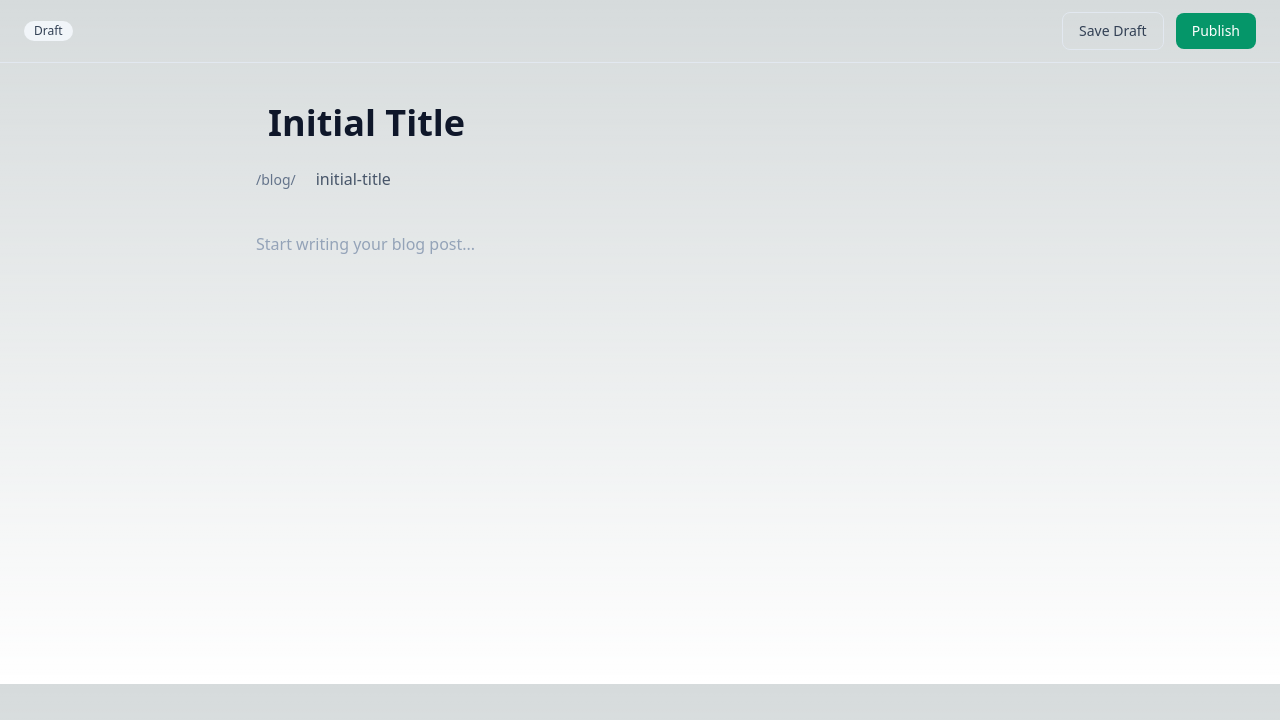
Test: BlogPostEditor › updates slug when title changes (if slug not edited)
Step 1. Replace the text in the 1st field with placeholder "Post title" with "New Title" → (640, 123), box [256,95,1024,151]
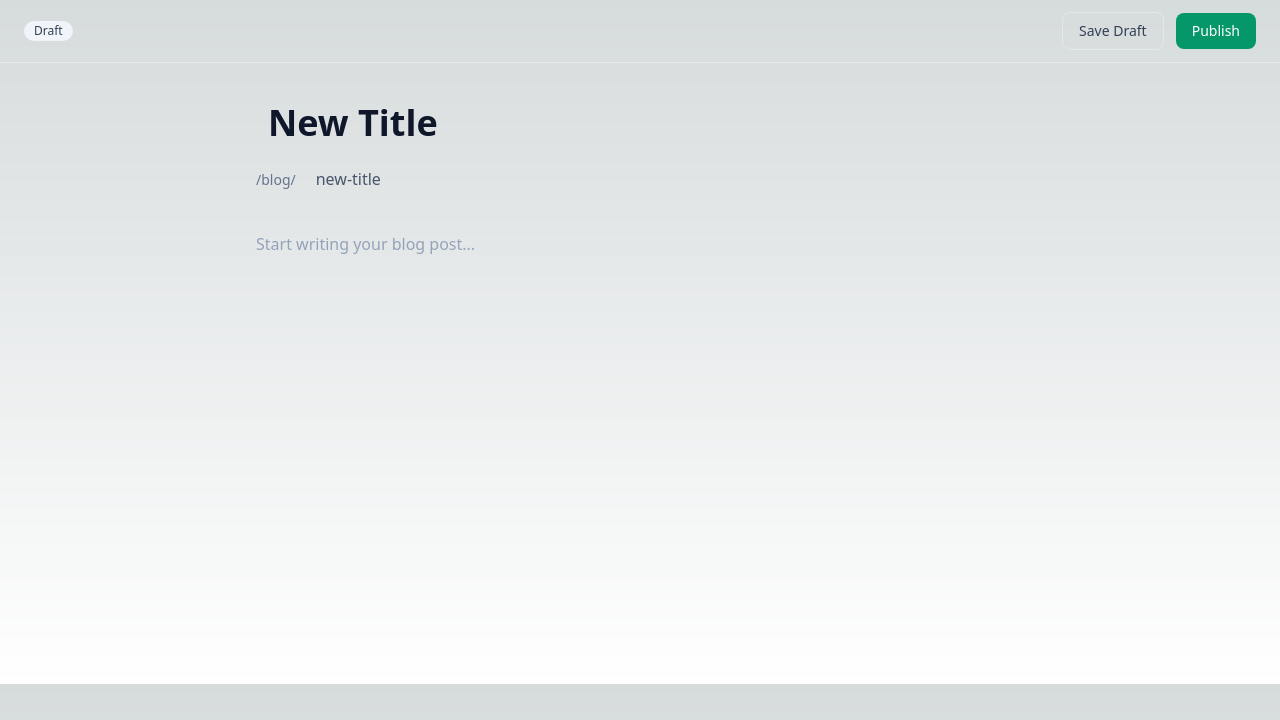
Now the field showing "new-title" next to "/blog/" is shown, box [304,159,1024,200]
